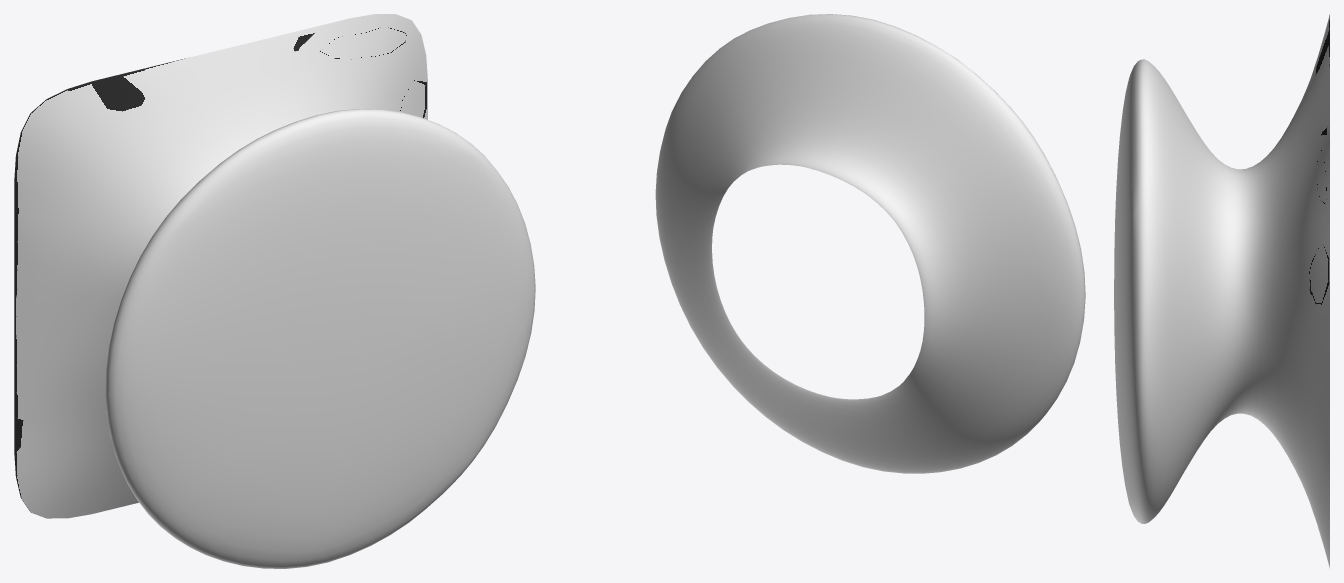
File: cgalref_mushroom_cgal_conformal_result.glb
3 renders of one model, left to right at view 1: azimuth 30°, elevation 25°; view 2: azimuth 150°, elevation 25°; view 3: azimuth 270°, elevation 25°, orthographic. The views are drawn at different scales.
Parts seen in each view (by area): view 1: parameterized; view 2: parameterized; view 3: parameterized.
Boxes of the visible parts, bbox=[...] form: parameterized: bbox=[14, 14, 535, 568]; parameterized: bbox=[655, 14, 1085, 473]; parameterized: bbox=[1114, 14, 1329, 568].
Size of the model in its own units: 99.98 by 100 by 46.4.
Materials: 1 (1 with a texture image).
